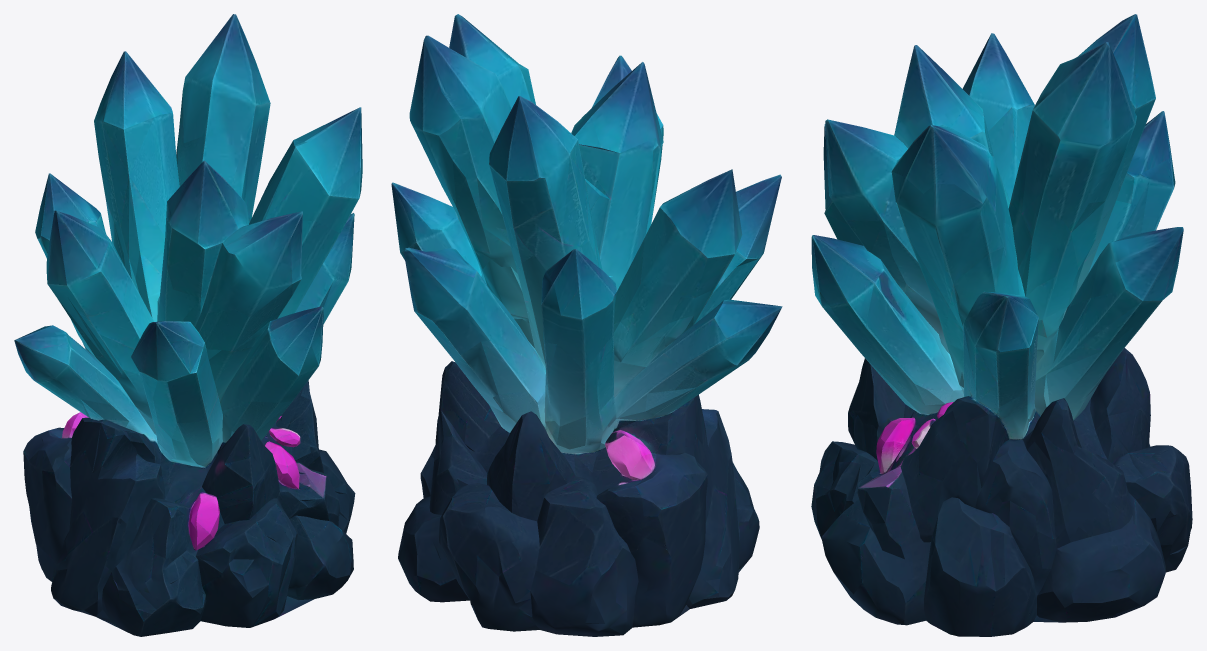
Rendered from crystal.glb.
The picture shows the model from 3 angles, left to right: view 1: azimuth 30°, elevation 25°; view 2: azimuth 150°, elevation 25°; view 3: azimuth 270°, elevation 25°; orthographic projection. The views are drawn at different scales.
Size of the model in its own units: 1.39 by 1.9 by 1.15.
1 material, 1 textured.
